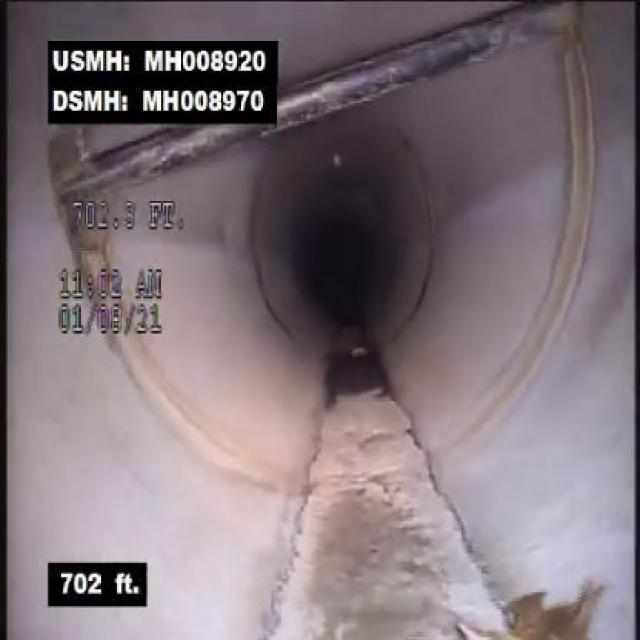Utility intrusion: (280, 5, 594, 136), (48, 130, 250, 192)
